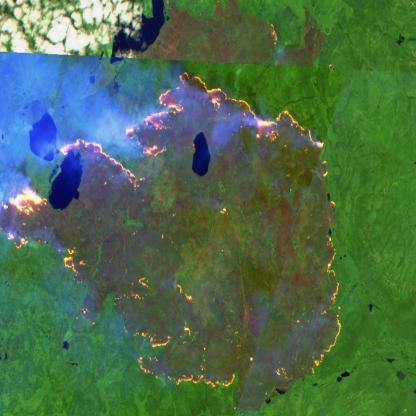fire: (0, 67, 344, 416)
